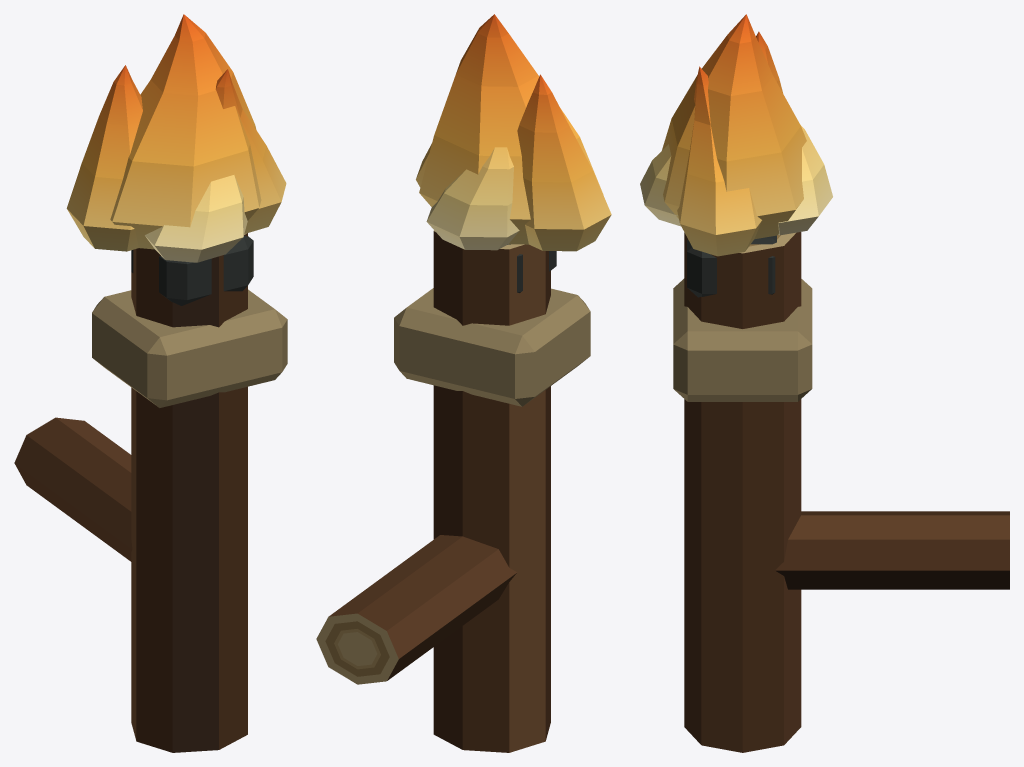
Rendered from wooden_torch.glb.
The picture shows the model from 3 angles, left to right: view 1: azimuth 30°, elevation 25°; view 2: azimuth 150°, elevation 25°; view 3: azimuth 270°, elevation 25°; orthographic projection.
Parts seen in each view (by area): view 1: torch_body, torch_flame; view 2: torch_body, torch_flame; view 3: torch_body, torch_flame.
Part boxes in pixels (<box>): torch_body: <box>14,233,287,752</box>; torch_flame: <box>66,14,286,262</box>; torch_body: <box>316,230,590,752</box>; torch_flame: <box>416,14,611,251</box>; torch_body: <box>673,232,1009,752</box>; torch_flame: <box>640,14,832,256</box>.
Bounding box in the file's own units: 0.4045 × 1.41 × 0.6646.
